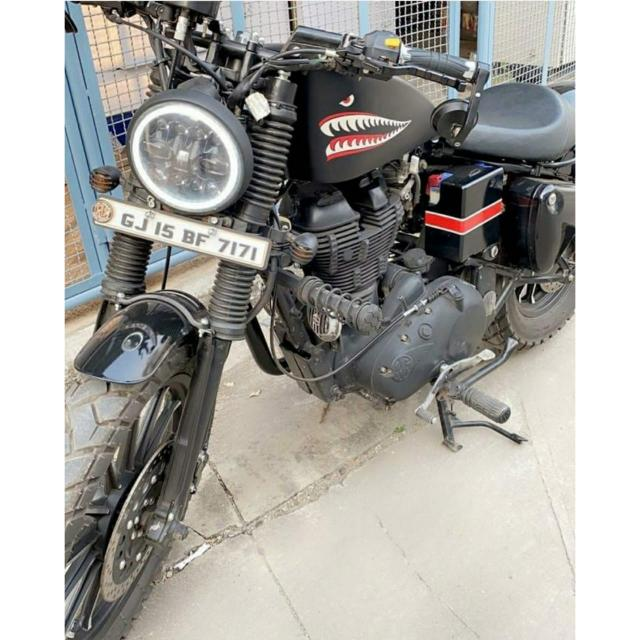number plate: (90, 195, 272, 271)
